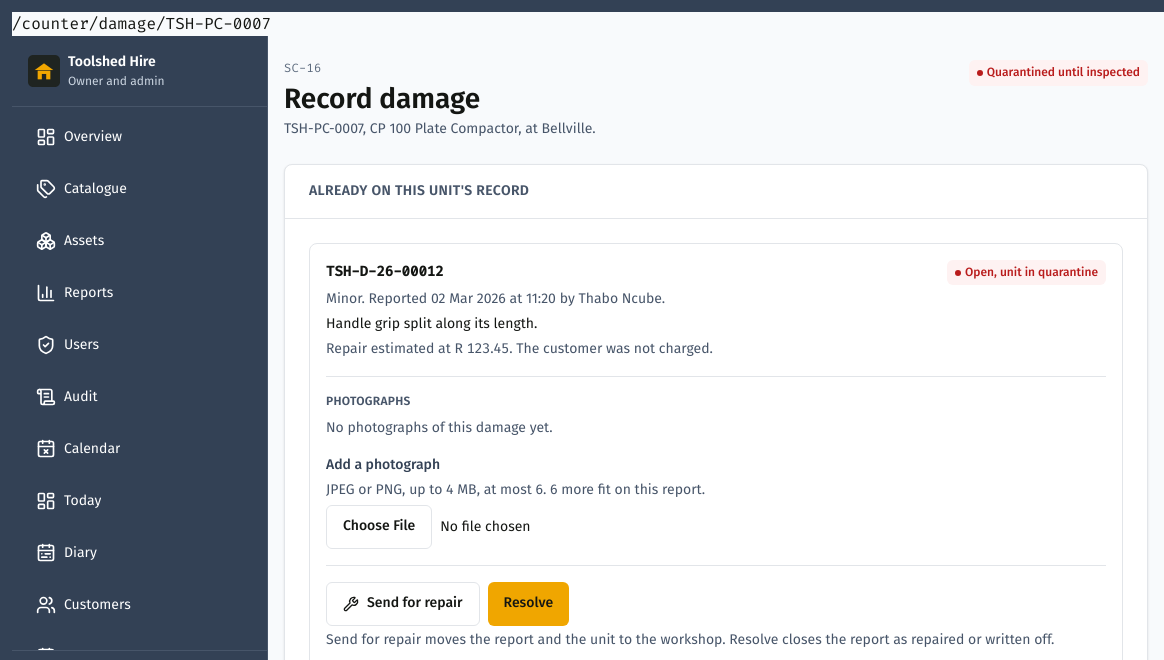
Test: sending a report for repair › sends one request with no body, and shows the report in the workshop
Click the button "Send for repair".
click(403, 604)  # box [326,582,480,626]
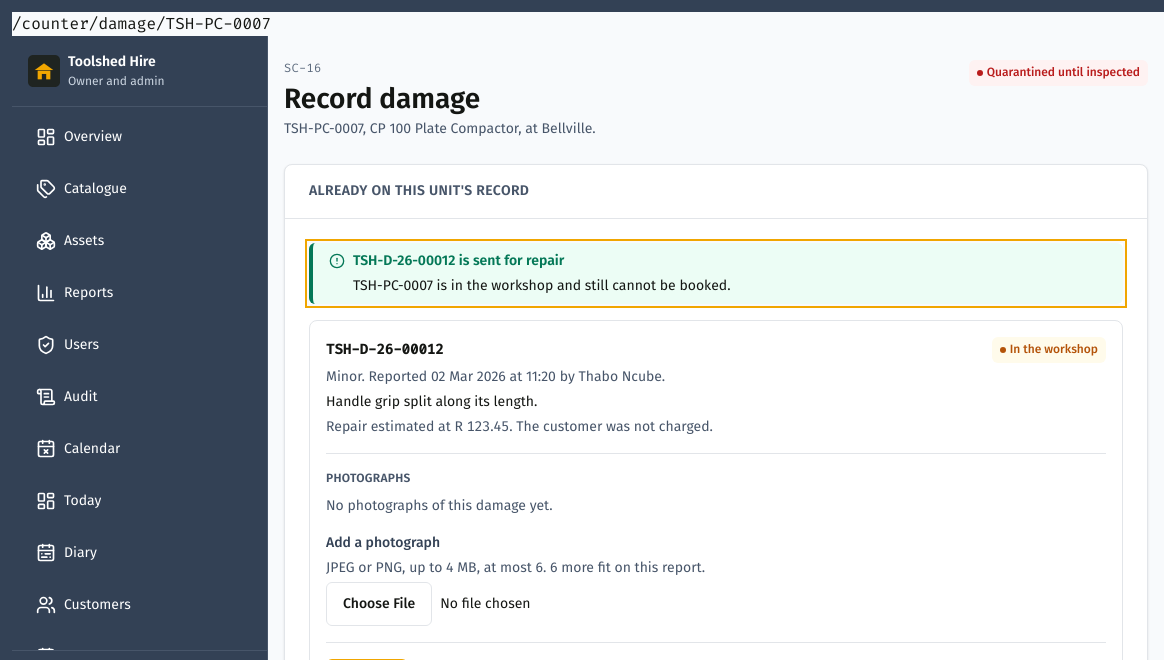
Now the text "In the workshop" is shown, box [992,337,1106,363]
Now the button "Send for repair" is gone
